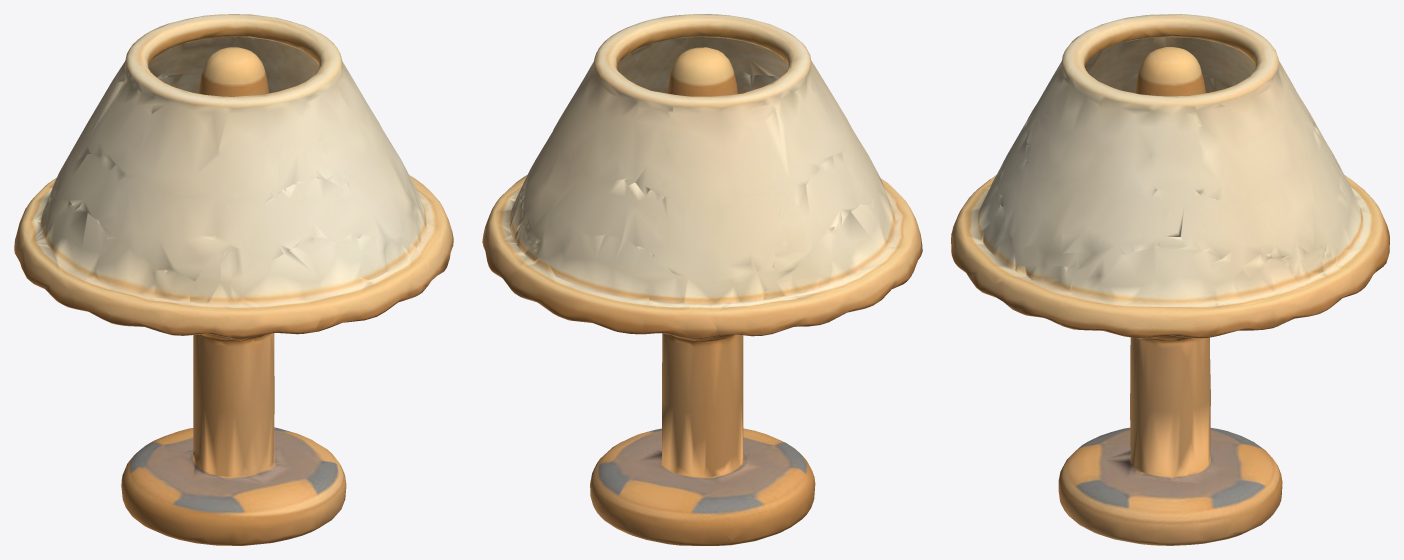
File: lamp.glb
3 views of the same model, side by side, from view 1: azimuth 30°, elevation 25°; view 2: azimuth 150°, elevation 25°; view 3: azimuth 270°, elevation 25° (orthographic).
Visible parts, largest first — view 1: tripo_node_ec8aba98-ac5e-4a60-8fc1-9520e9d20010; view 2: tripo_node_ec8aba98-ac5e-4a60-8fc1-9520e9d20010; view 3: tripo_node_ec8aba98-ac5e-4a60-8fc1-9520e9d20010.
Part boxes in pixels (x1=…): tripo_node_ec8aba98-ac5e-4a60-8fc1-9520e9d20010: x1=14, y1=14, x2=453, y2=545; tripo_node_ec8aba98-ac5e-4a60-8fc1-9520e9d20010: x1=482, y1=14, x2=922, y2=545; tripo_node_ec8aba98-ac5e-4a60-8fc1-9520e9d20010: x1=951, y1=14, x2=1389, y2=545.
Size of the model in its own units: 0.8701 by 1 by 0.8694.
Materials: 1 (1 with a texture image).
